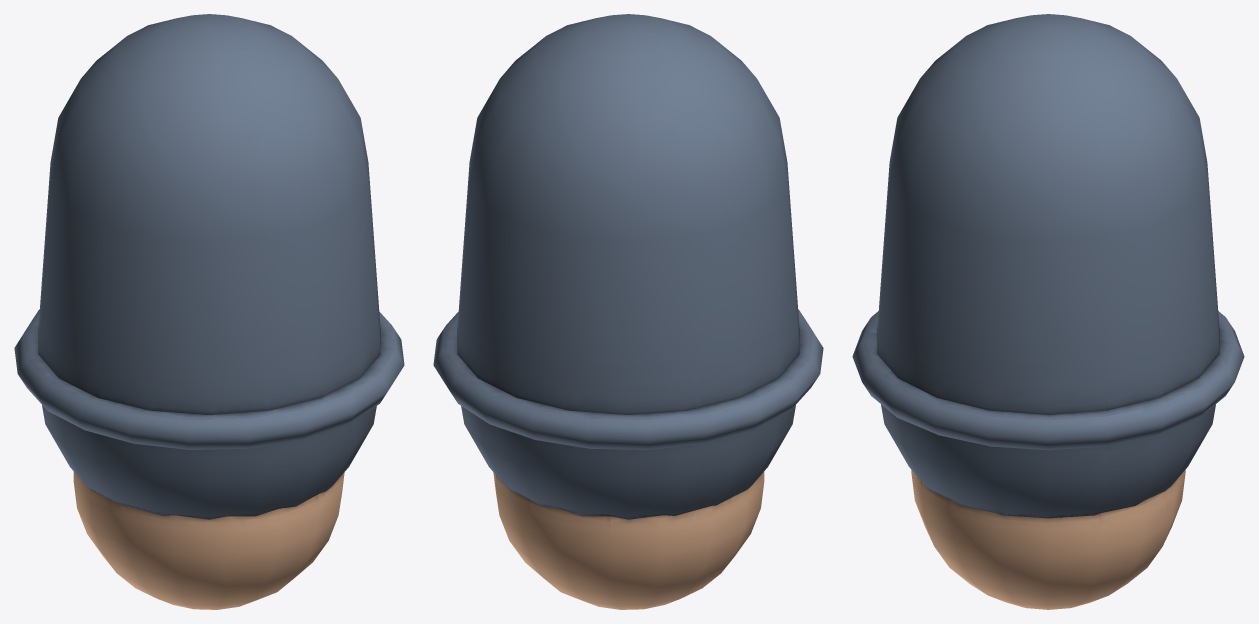
Rendered from legs_shorts.glb.
3 renders of one model, left to right at view 1: azimuth 30°, elevation 25°; view 2: azimuth 150°, elevation 25°; view 3: azimuth 270°, elevation 25°, orthographic.
Parts seen in each view (by area): view 1: legs_shorts; view 2: legs_shorts; view 3: legs_shorts.
Boxes of the visible parts, x1,y1,x2,y2 form: legs_shorts: (14,14,404,609); legs_shorts: (433,14,823,609); legs_shorts: (852,14,1244,609).
Bounding box in the file's own units: 0.226 × 0.362 × 0.226.
Materials: 2 (2 with a texture image).
